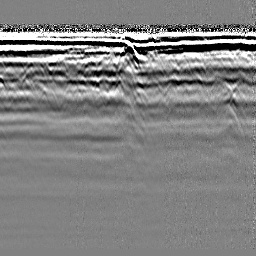cavity: (120, 36, 137, 61)
